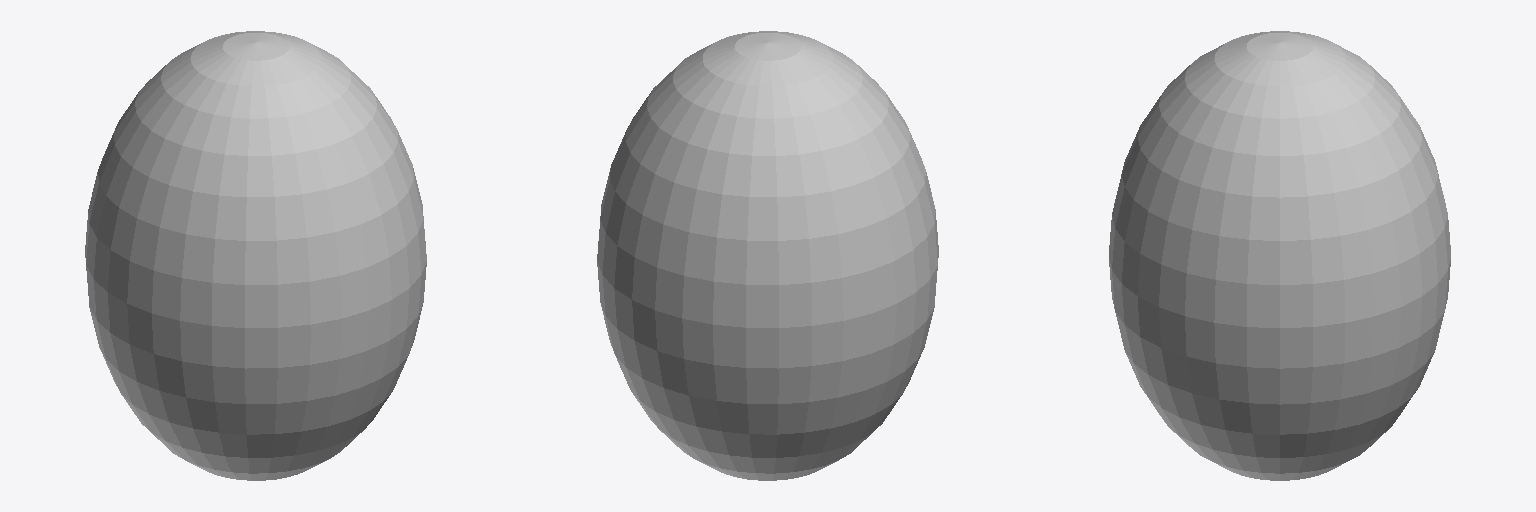
File: Lava lamp.obj
3 renders of one model, left to right at view 1: azimuth 30°, elevation 25°; view 2: azimuth 150°, elevation 25°; view 3: azimuth 270°, elevation 25°, orthographic.
Visible parts, largest first — view 1: Sphere006; view 2: Sphere006; view 3: Sphere006.
Boxes of the visible parts, x1=… form: Sphere006: x1=85, y1=31, x2=426, y2=480; Sphere006: x1=597, y1=31, x2=938, y2=480; Sphere006: x1=1109, y1=31, x2=1450, y2=480.
Bounding box in the file's own units: 43234 × 59416 × 43234.